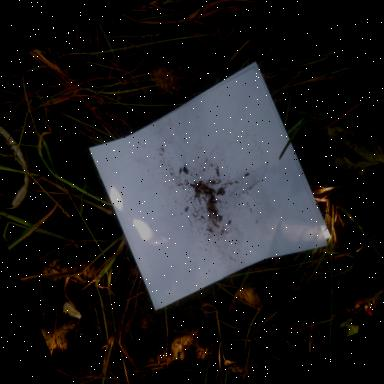pbw: (217, 214, 224, 221), (177, 166, 183, 174), (206, 206, 212, 214), (193, 178, 198, 186), (221, 188, 226, 195), (208, 178, 213, 184), (208, 197, 213, 203), (227, 219, 232, 224), (207, 204, 212, 209), (208, 201, 213, 206), (244, 172, 250, 176), (202, 185, 206, 191), (212, 214, 216, 220), (203, 190, 207, 195), (213, 200, 218, 204), (196, 186, 201, 190), (190, 182, 194, 187), (196, 193, 201, 197), (194, 192, 198, 197), (199, 182, 204, 186), (184, 206, 188, 211), (206, 192, 210, 196), (206, 202, 210, 206), (194, 189, 198, 193), (212, 211, 216, 215), (216, 213, 220, 216)
